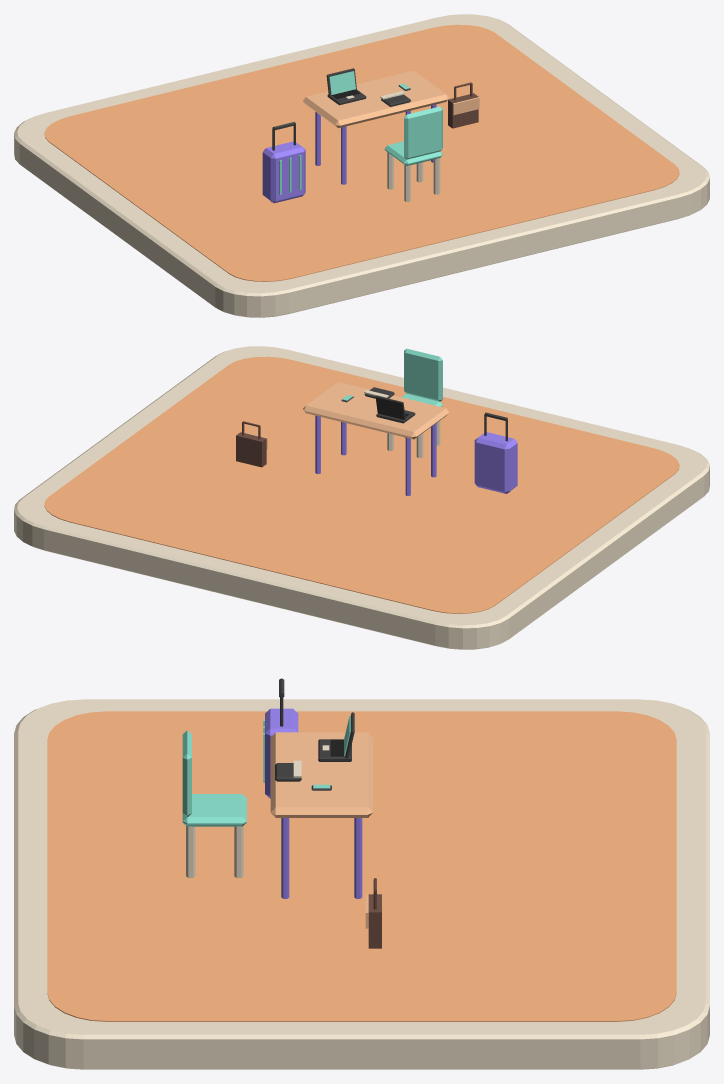
3 views of the same model, one above another, from view 1: azimuth 30°, elevation 25°; view 2: azimuth 150°, elevation 25°; view 3: azimuth 270°, elevation 25° (orthographic). The views are drawn at different scales.
Visible parts, largest first — view 1: COM-02 Floor Surface, COM-01 Rounded Base Direct, Rounded table top, Shell, Backrest, Bag, Seat, Display face; view 2: COM-02 Floor Surface, COM-01 Rounded Base Direct, Rounded table top, Shell, Backrest, Bag, Hinged display; view 3: COM-02 Floor Surface, COM-01 Rounded Base Direct, Rounded table top, Seat, Shell, Bag, Backrest, Leg.002, Leg.003.
Boxes of the visible parts, box(x1,y1,x2,y2) form: COM-02 Floor Surface: box(44, 24, 679, 281); COM-01 Rounded Base Direct: box(14, 14, 709, 317); Rounded table top: box(303, 70, 449, 128); Shell: box(262, 141, 305, 203); Backrest: box(404, 106, 442, 159); Bag: box(448, 82, 479, 128); Seat: box(384, 141, 442, 165); Display face: box(329, 71, 355, 94); COM-02 Floor Surface: box(44, 356, 679, 613); COM-01 Rounded Base Direct: box(14, 346, 709, 649); Rounded table top: box(303, 382, 449, 439); Shell: box(474, 432, 517, 493); Backrest: box(404, 348, 442, 401); Bag: box(236, 421, 267, 467); Hinged display: box(375, 395, 405, 420); COM-02 Floor Surface: box(47, 711, 676, 1021); COM-01 Rounded Base Direct: box(14, 699, 709, 1069); Rounded table top: box(270, 732, 372, 817); Seat: box(182, 794, 246, 826); Shell: box(265, 708, 298, 798); Bag: box(365, 878, 381, 948); Backrest: box(182, 730, 191, 817); Leg.002: box(281, 818, 289, 898); Leg.003: box(354, 818, 362, 898).
Size of the model in its own units: 6 by 1.35 by 5.2.
1 material, 1 textured.
